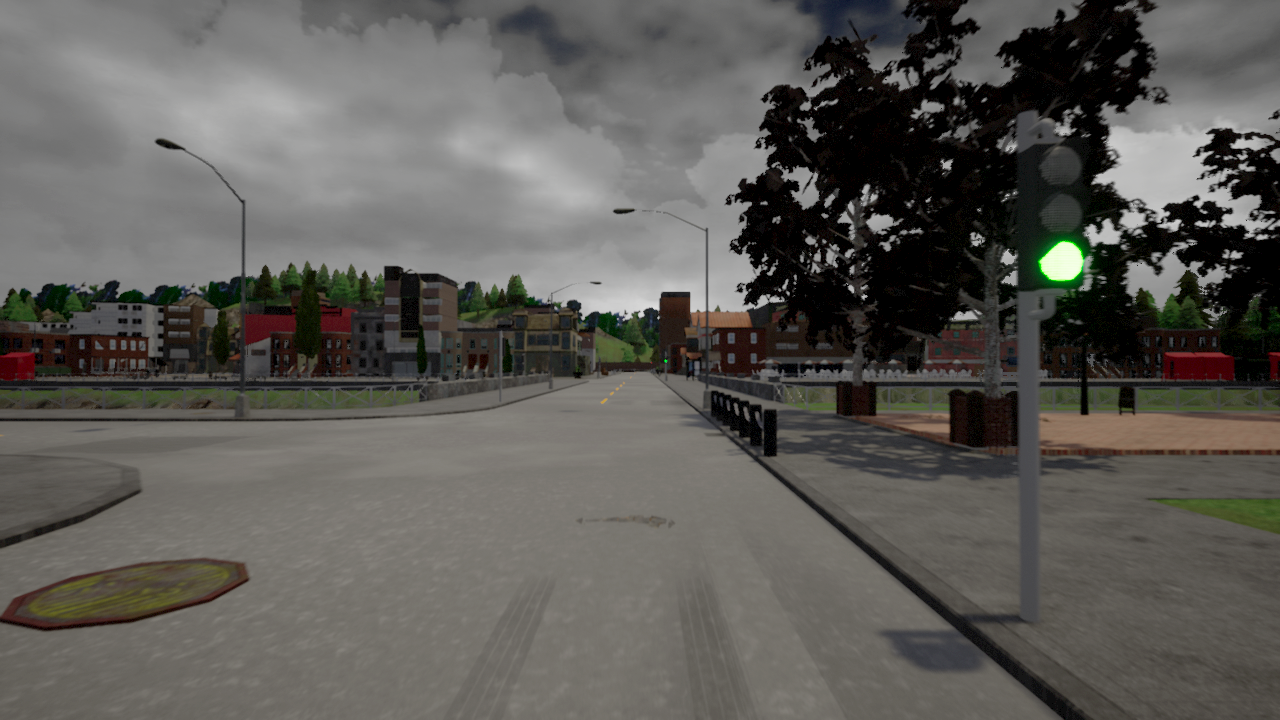green: (1018, 139, 1090, 289)
